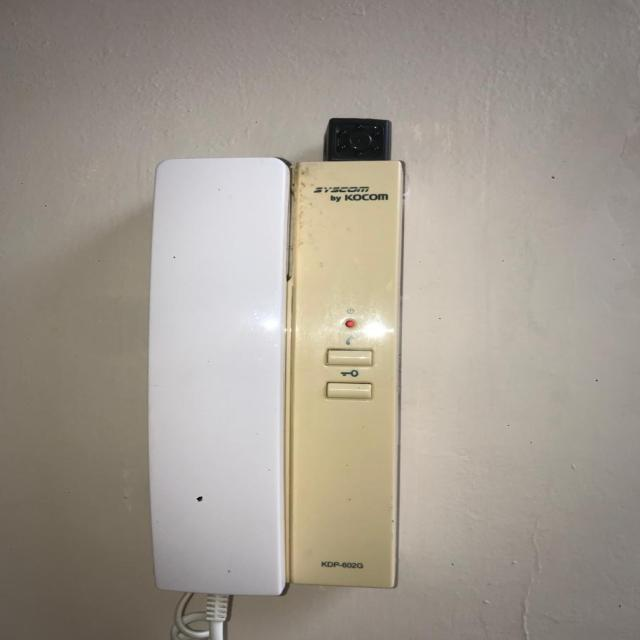hidden camera: (349, 132, 372, 151)
